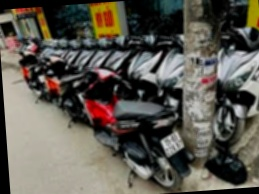Bien-so: (150, 132, 175, 159)
